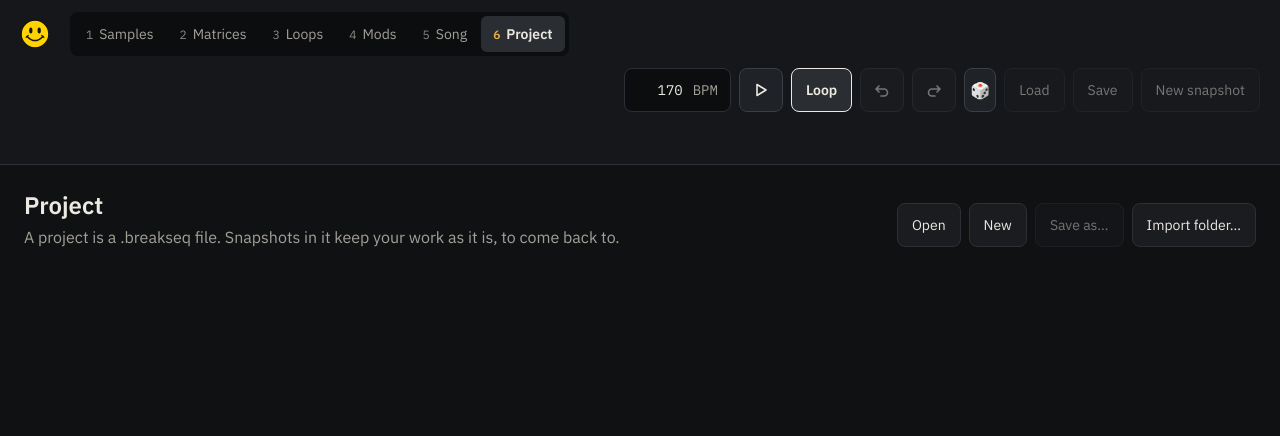
Scenario: projects as .breakseq files in the plugin › Open opens a .breakseq at its active snapshot
Click the button "Open": (929, 225) x1=897 y1=203 x2=961 y2=247
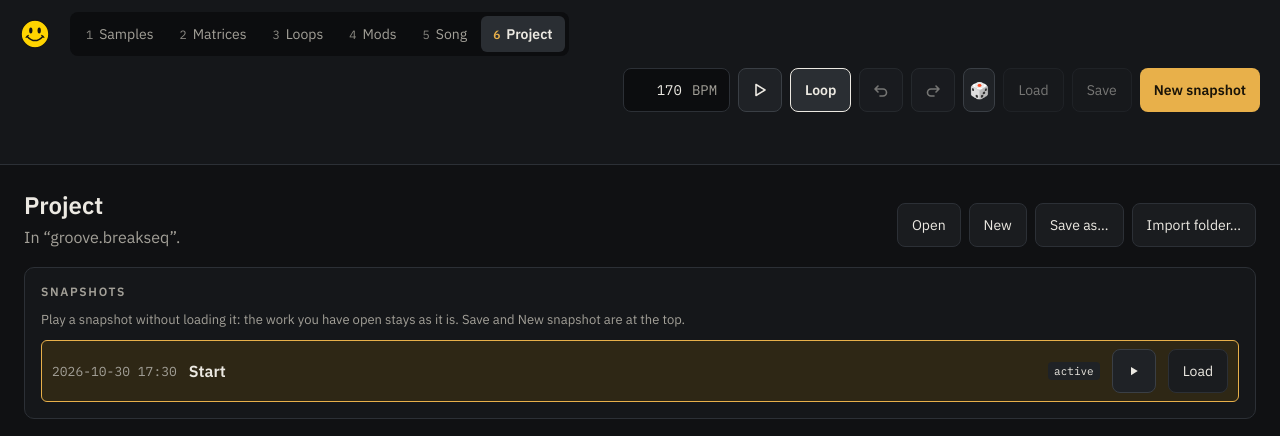
Result: the text "In “groove.breakseq”." is shown at x1=24 y1=227 x2=180 y2=247
